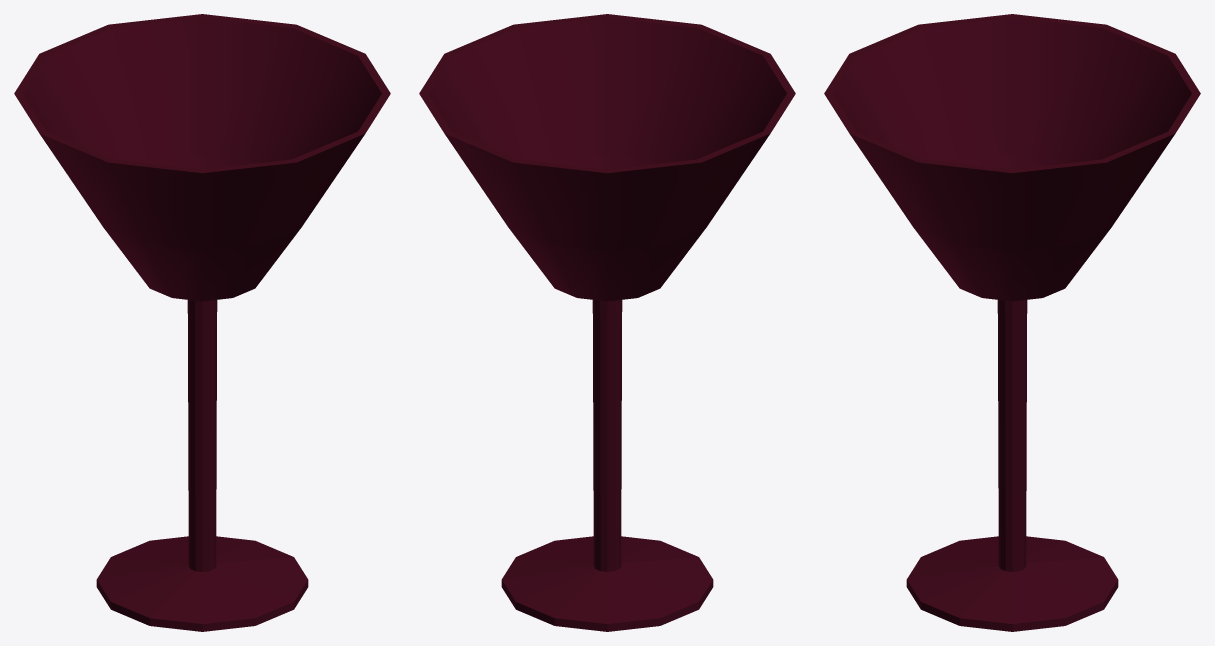
The model's file is Prop_Glass_Martini_v01.fbx.
3 renders of one model, left to right at view 1: azimuth 30°, elevation 25°; view 2: azimuth 150°, elevation 25°; view 3: azimuth 270°, elevation 25°, orthographic.
Parts seen in each view (by area): view 1: Rest_Bar_Set04_MartiniGlass_01; view 2: Rest_Bar_Set04_MartiniGlass_01; view 3: Rest_Bar_Set04_MartiniGlass_01.
Boxes of the visible parts, left/top/right/bottom form: Rest_Bar_Set04_MartiniGlass_01: left=14, top=14, right=390, bottom=631; Rest_Bar_Set04_MartiniGlass_01: left=419, top=14, right=795, bottom=631; Rest_Bar_Set04_MartiniGlass_01: left=824, top=14, right=1200, bottom=631.
Bounding box in the file's own units: 3.73 × 5.39 × 3.73.
